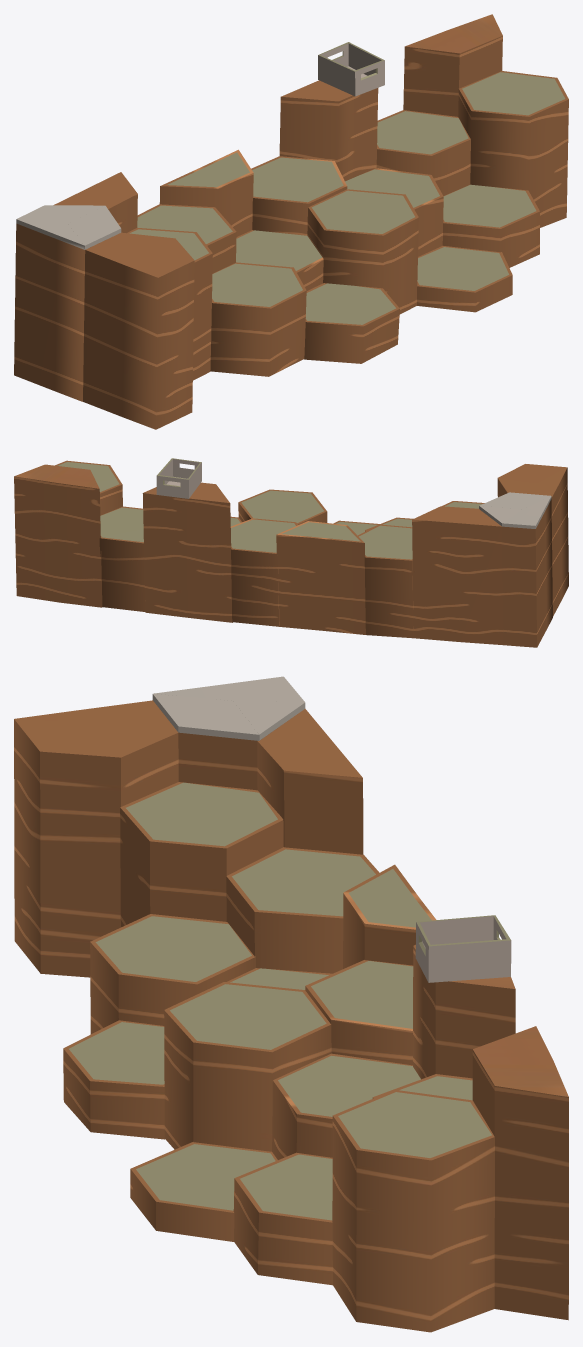
The model's file is CatCouch.fbx.
3 renders of one model, top to bottom at view 1: azimuth 30°, elevation 25°; view 2: azimuth 150°, elevation 25°; view 3: azimuth 270°, elevation 25°, orthographic. The views are drawn at different scales.
Visible parts, largest first — view 1: CatCouch; view 2: CatCouch; view 3: CatCouch.
Boxes of the visible parts, x1,y1,x2,y2 form: CatCouch: [14, 14, 568, 429]; CatCouch: [14, 458, 568, 647]; CatCouch: [14, 676, 568, 1332].
Size of the model in its own units: 183 by 52.76 by 100.
Materials: 1 (1 with a texture image).
